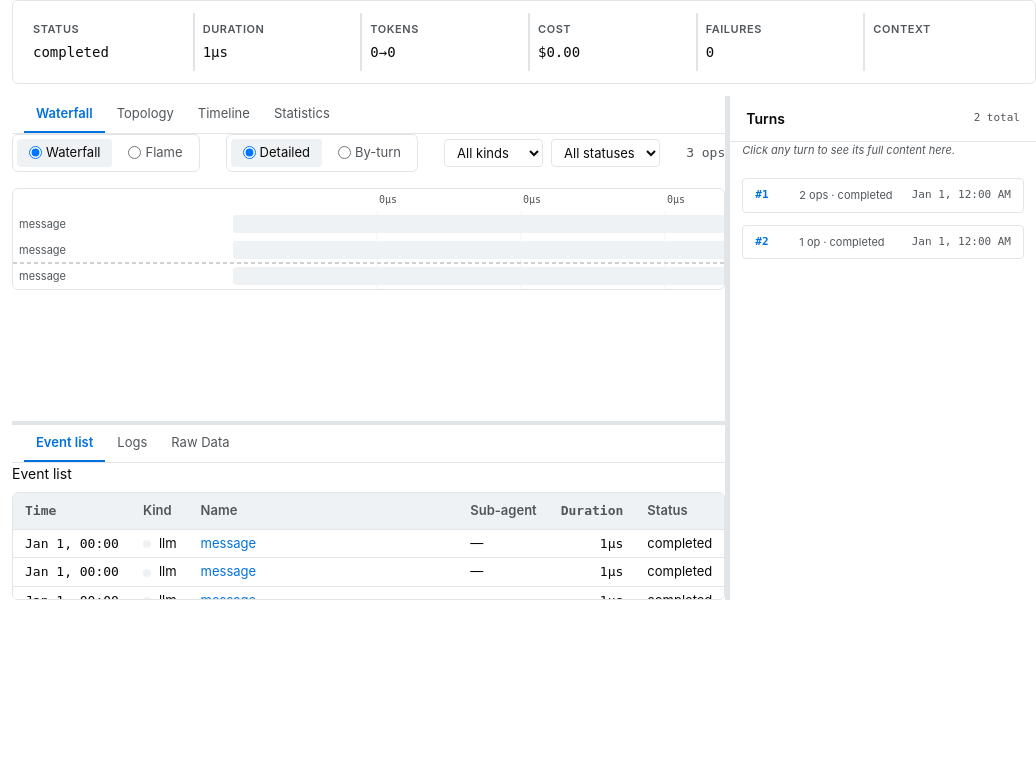
Test: UnifiedView — viz tabs › switches to Statistics viz when clicked (renders an empty state)
Click the button "Statistics": (302, 114) [262,96,342,133]
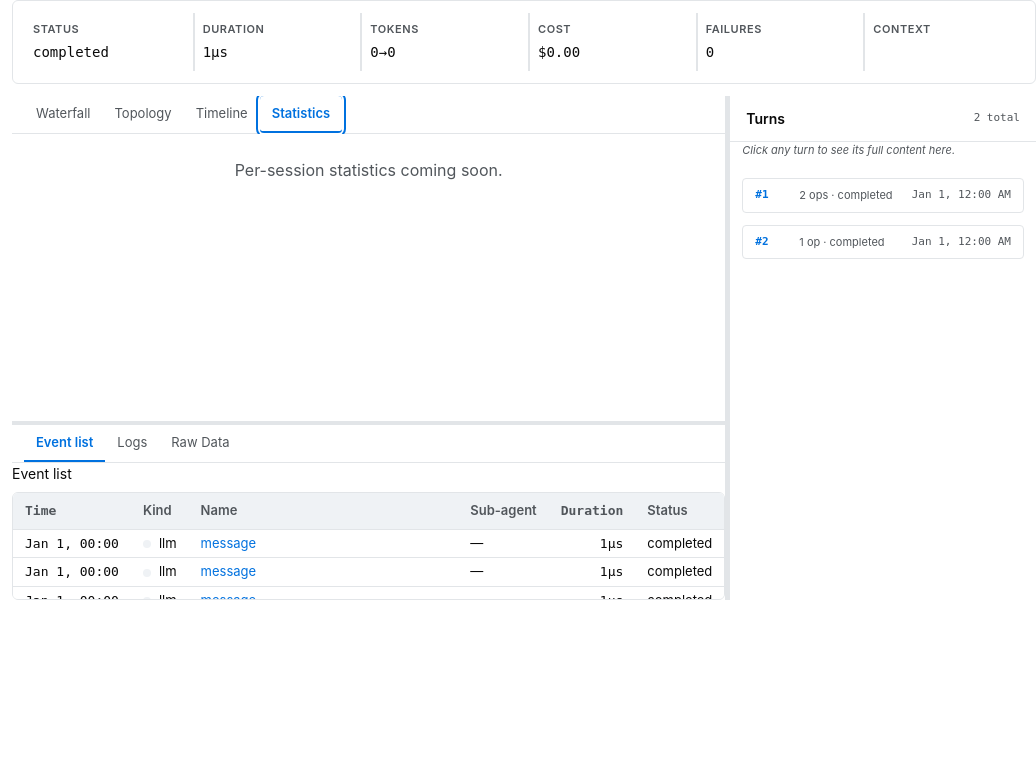
Now the text "Per-session statistics coming soon." is shown, box [235,160,503,180]
